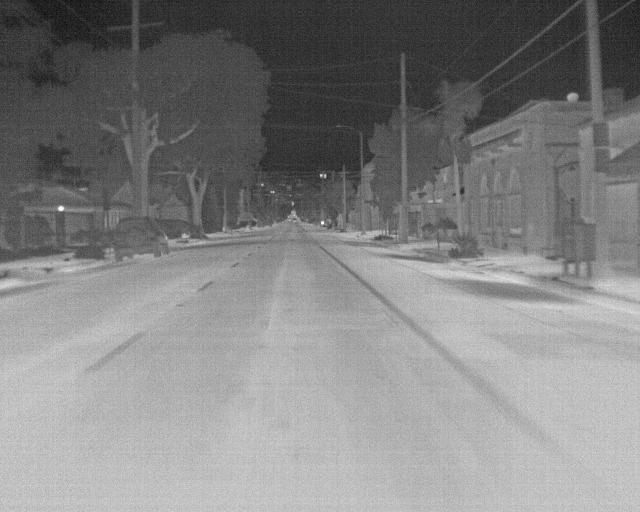car: (114, 214, 168, 262), (164, 218, 190, 239)
